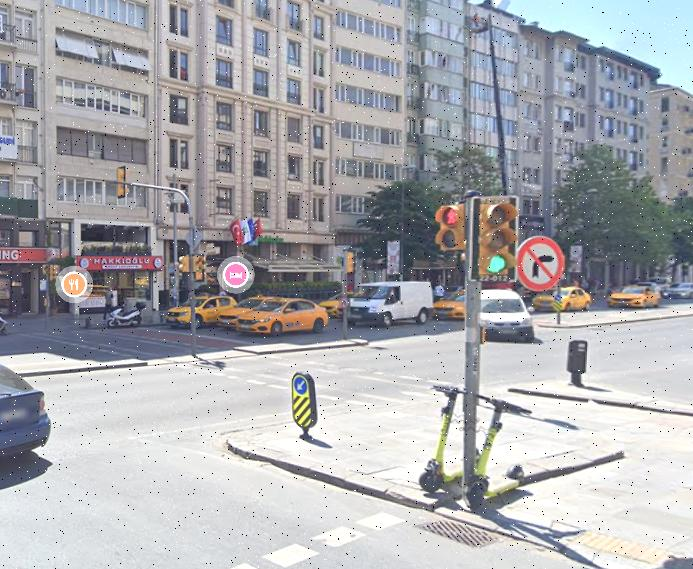greenlight: (475, 197, 514, 279)
rightturnsareforbidden: (517, 236, 566, 291)
